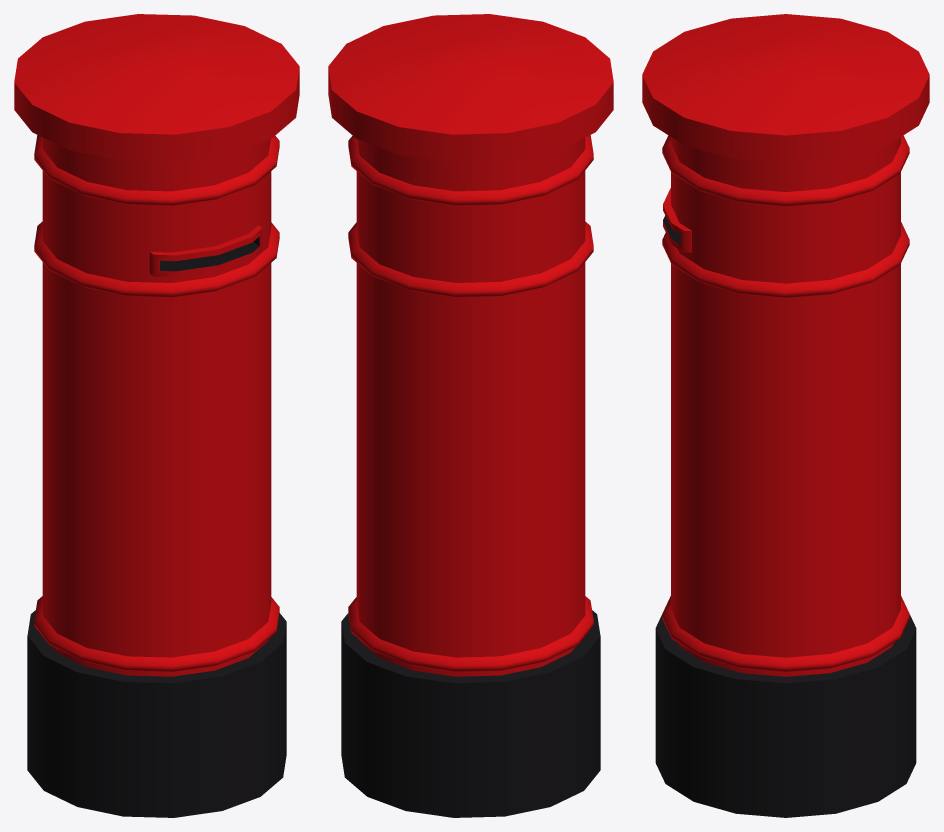
3 views of the same model, side by side, from view 1: azimuth 30°, elevation 25°; view 2: azimuth 150°, elevation 25°; view 3: azimuth 270°, elevation 25° (orthographic).
Parts seen in each view (by area): view 1: UKPublicMailbox; view 2: UKPublicMailbox; view 3: UKPublicMailbox.
Boxes of the visible parts, box(x1,y1,x2,y2) form: UKPublicMailbox: box(14, 14, 299, 817); UKPublicMailbox: box(328, 14, 613, 817); UKPublicMailbox: box(642, 14, 929, 817).
Size of what is drawn, in the model's own units: 0.5931 by 1.6 by 0.5931.
1 material, 1 textured.
